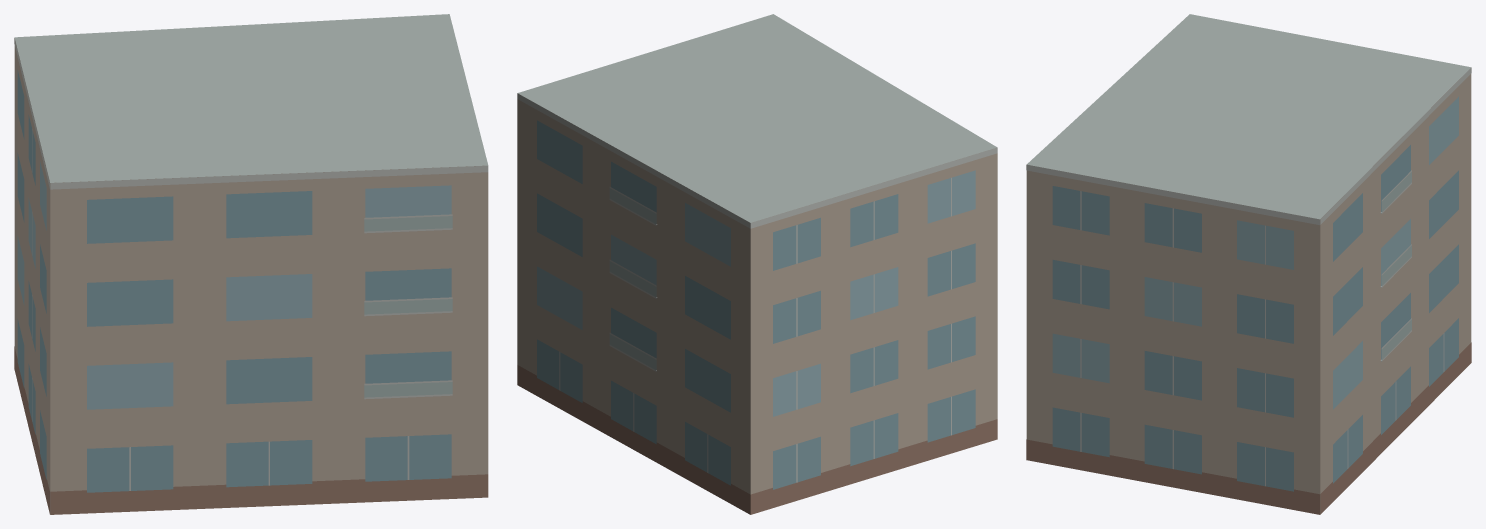
Rendered from survey-upis-32527280.glb.
The picture shows the model from 3 angles, left to right: view 1: azimuth 30°, elevation 25°; view 2: azimuth 150°, elevation 25°; view 3: azimuth 270°, elevation 25°; orthographic projection. The views are drawn at different scales.
Parts seen in each view (by area): view 1: survey-upis-32527280.tmp; view 2: survey-upis-32527280.tmp; view 3: survey-upis-32527280.tmp.
Boxes of the visible parts, x1,y1,x2,y2 form: survey-upis-32527280.tmp: [14, 14, 488, 514]; survey-upis-32527280.tmp: [517, 14, 997, 514]; survey-upis-32527280.tmp: [1026, 14, 1471, 514].
Bounding box in the file's own units: 18.19 × 12.2 × 16.66.
